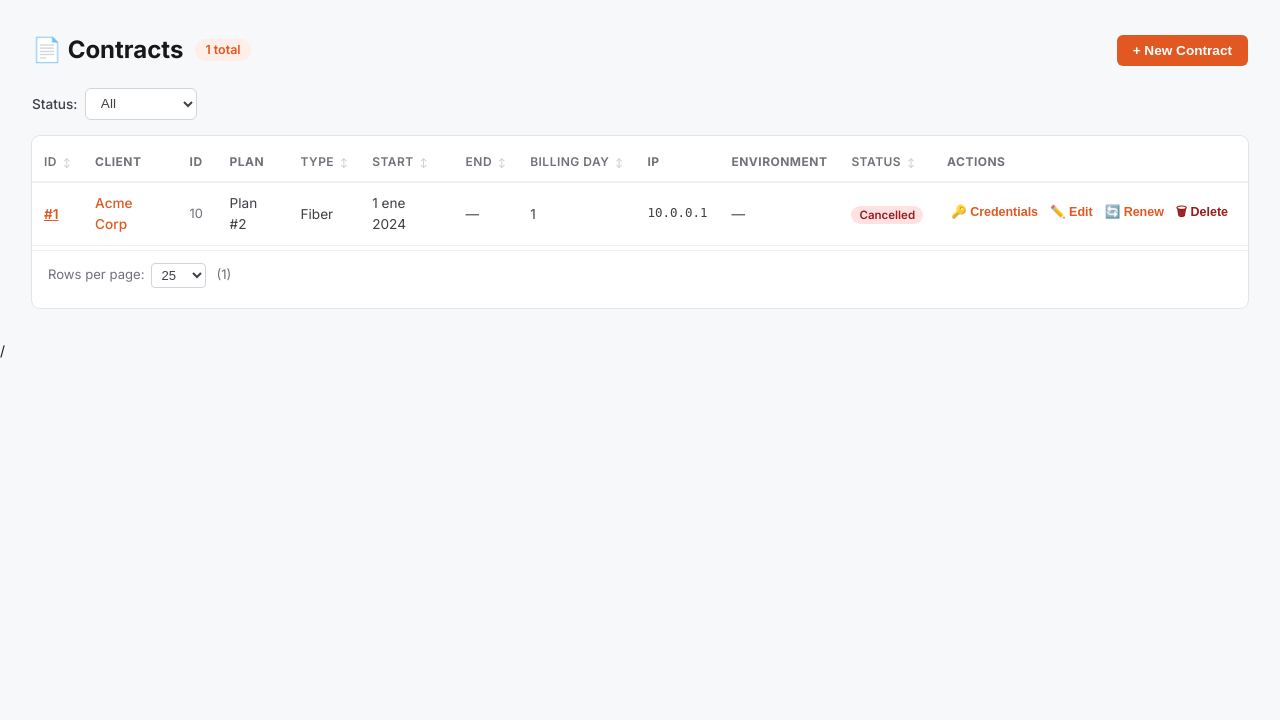
ContractList page › surfaces a RouterOS restore failure after renewal and links to the safe retry
Click the button "🔄 Renew".
click(1134, 212)  # box left=1101, top=202, right=1168, bottom=221
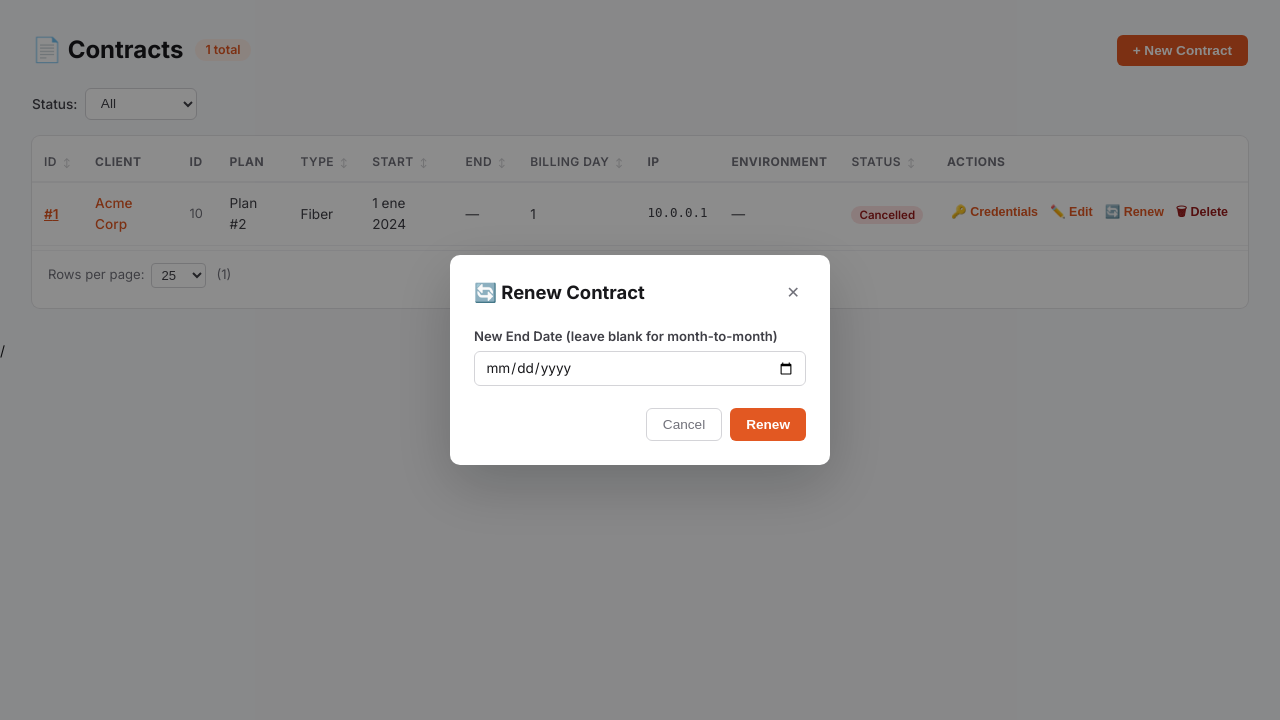
Click the button "Renew".
click(768, 424)  # box left=730, top=408, right=806, bottom=441
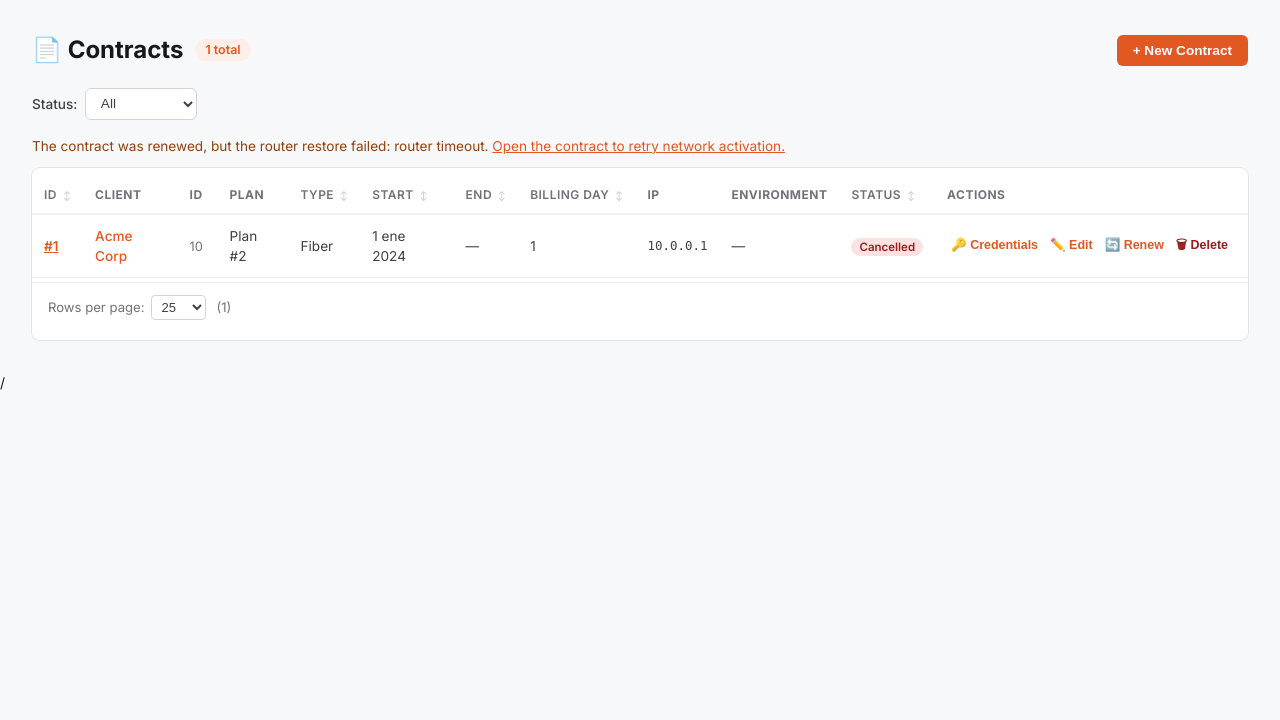
Result: the text "router timeout" is shown at left=32, top=138, right=488, bottom=154
